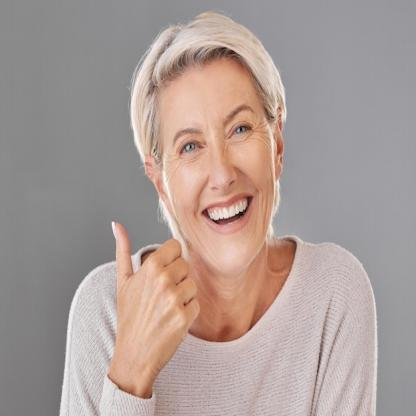thumb_up: (105, 216, 206, 386)
